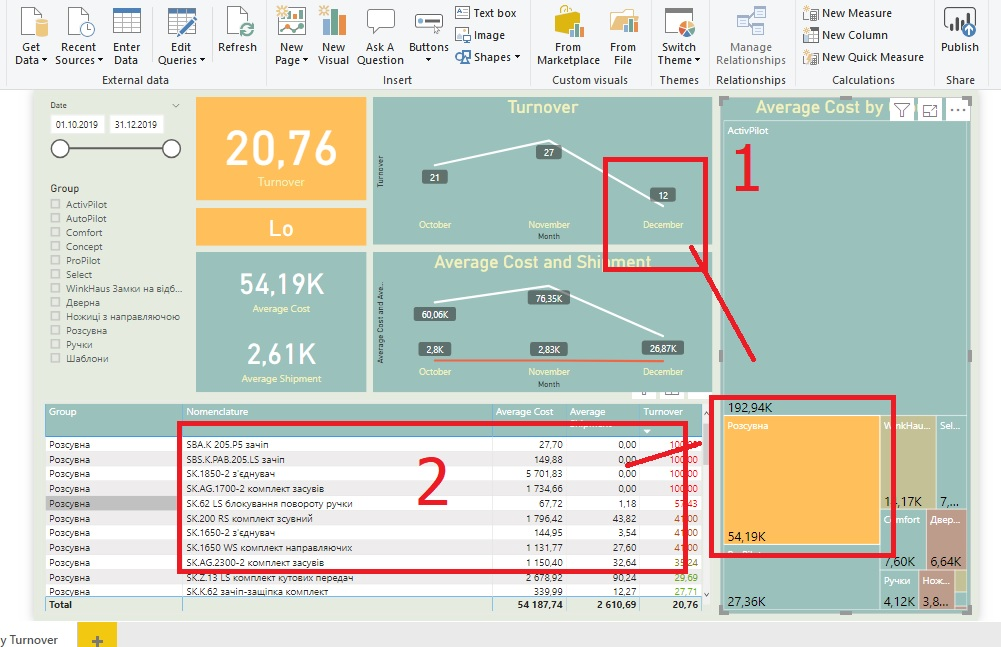

What the dashboard file says about the page in this screenshot:
{"tool":"powerbi","page":{"name":"Inventory Turnover","canvas":[1280,720],"ordinal":0},"visuals":[{"type":"card","title":"Total turnover (days)","fields":{"Values":["RAW_Data.Turnover"]},"box":[219.7,9.5,230.7,140],"z":0},{"type":"lineChart","title":"Turnover","fields":{"Y":["RAW_Data.Turnover"],"Category":["RAW_Data.Date.Variation.Date Hierarchy.Month","RAW_Data.Date.Variation.Date Hierarchy.Day"]},"box":[460,10,460,200],"z":1000},{"type":"tableEx","fields":{"Values":["RAW_Data.Group","RAW_Data.Nomenclature","RAW_Data.Average Daily Cost2","RAW_Data.Average_Decrease","RAW_Data.Turnover"]},"box":[9.5,420.3,911.8,290.8],"z":2000},{"type":"lineChart","title":"Average Cost and Shipment","fields":{"Category":["RAW_Data.Date.Variation.Date Hierarchy.Month","RAW_Data.Date.Variation.Date Hierarchy.Day"],"Y":["RAW_Data.Average Daily Cost2","RAW_Data.Average Shipment"]},"box":[460,220,460,190],"z":3000},{"type":"treemap","fields":{"Group":["RAW_Data.Group"],"Values":["RAW_Data.Average Daily Cost2"]},"box":[930,10,340,700],"z":4000},{"type":"slicer","fields":{"Values":["RAW_Data.Date"]},"box":[10,10,200,100],"z":6001},{"type":"slicer","fields":{"Values":["RAW_Data.Group"]},"box":[10,120,200,290],"z":6002},{"type":"card","fields":{"Values":["RAW_Data.Average Cost"]},"box":[219.7,219.7,230.7,94.8],"z":6003},{"type":"card","fields":{"Values":["RAW_Data.Average Shipment"]},"box":[219.7,314.5,230.7,94.8],"z":6004},{"type":"card","fields":{"Values":["RAW_Data.Turnover Ranges"]},"box":[219.7,159.6,230.7,50.6],"z":6005}]}

Visuals, with their boxes on the page's 1280x720 design canvas (x1, y1, x2, y2). These are canvas units, not pixel positions in the 1001x647 screenshot, which may show the page scaled, cropped or inside an application window:
"Total turnover (days)" card: box=[220, 10, 450, 150]
"Turnover" lineChart: box=[460, 10, 920, 210]
tableEx - RAW_Data.Group x RAW_Data.Nomenclature: box=[10, 420, 921, 711]
"Average Cost and Shipment" lineChart: box=[460, 220, 920, 410]
treemap - RAW_Data.Group x RAW_Data.Average Daily Cost2: box=[930, 10, 1270, 710]
slicer - RAW_Data.Date: box=[10, 10, 210, 110]
slicer - RAW_Data.Group: box=[10, 120, 210, 410]
card - RAW_Data.Average Cost: box=[220, 220, 450, 314]
card - RAW_Data.Average Shipment: box=[220, 314, 450, 409]
card - RAW_Data.Turnover Ranges: box=[220, 160, 450, 210]
